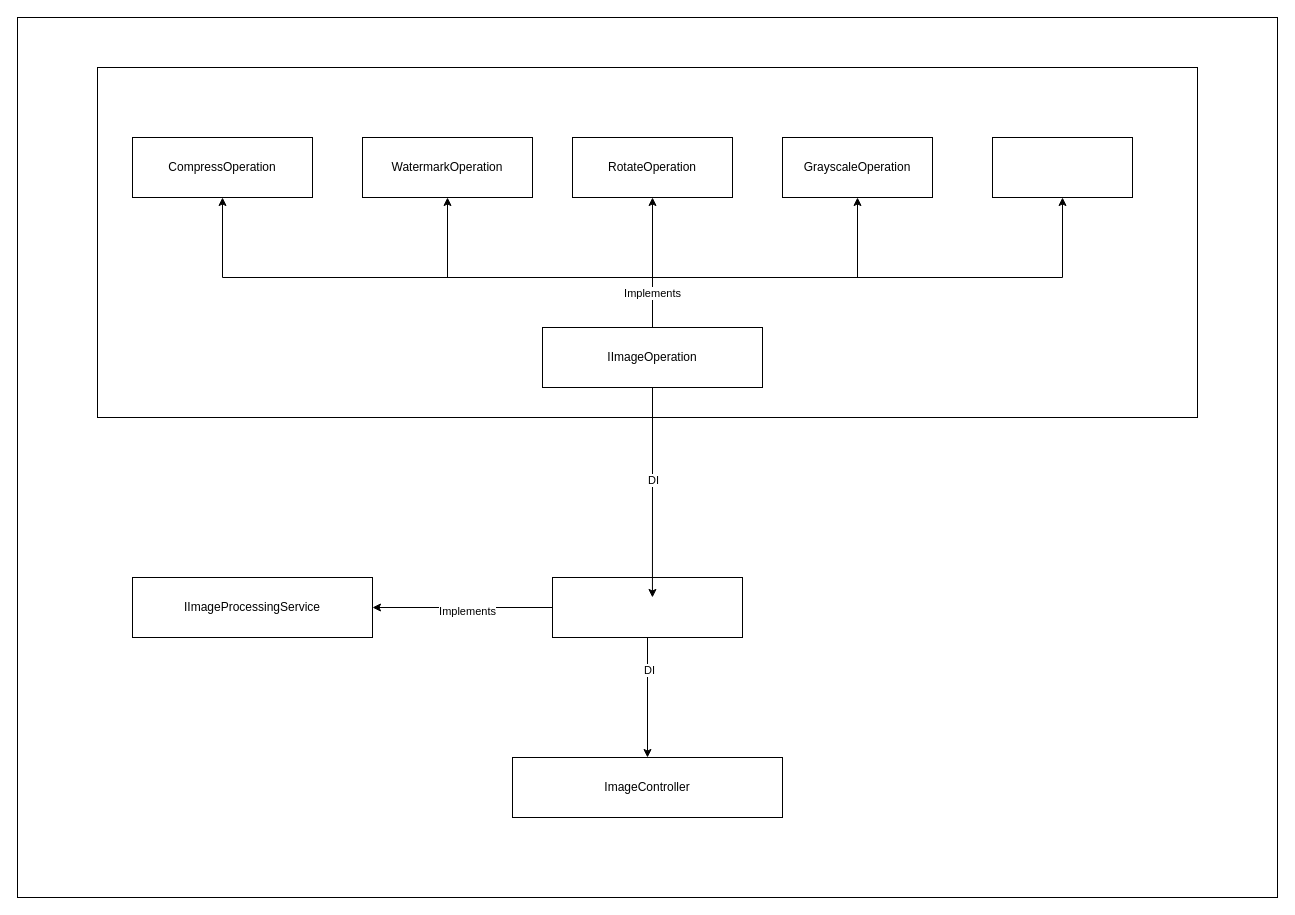
Some shapes in this 1295 by 915 pixel diagram are drawn without their labels. The centre of each missing label's shape, as x and y in pixels:
"ImageProcessingService" belongs at pixel 647 607.
"ResizeOperation" belongs at pixel 1062 167.
